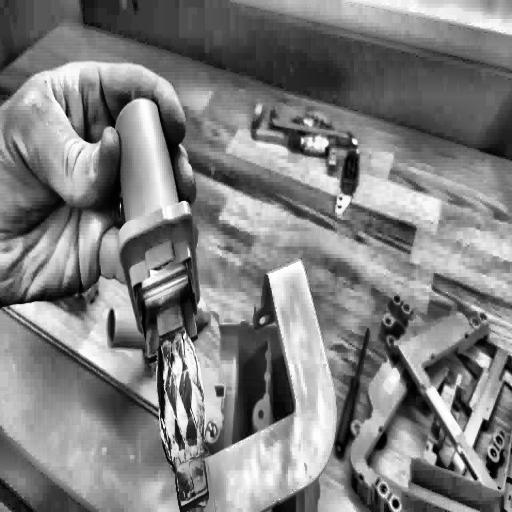busbar: (247, 88, 366, 214)
connector: (110, 93, 340, 512)
